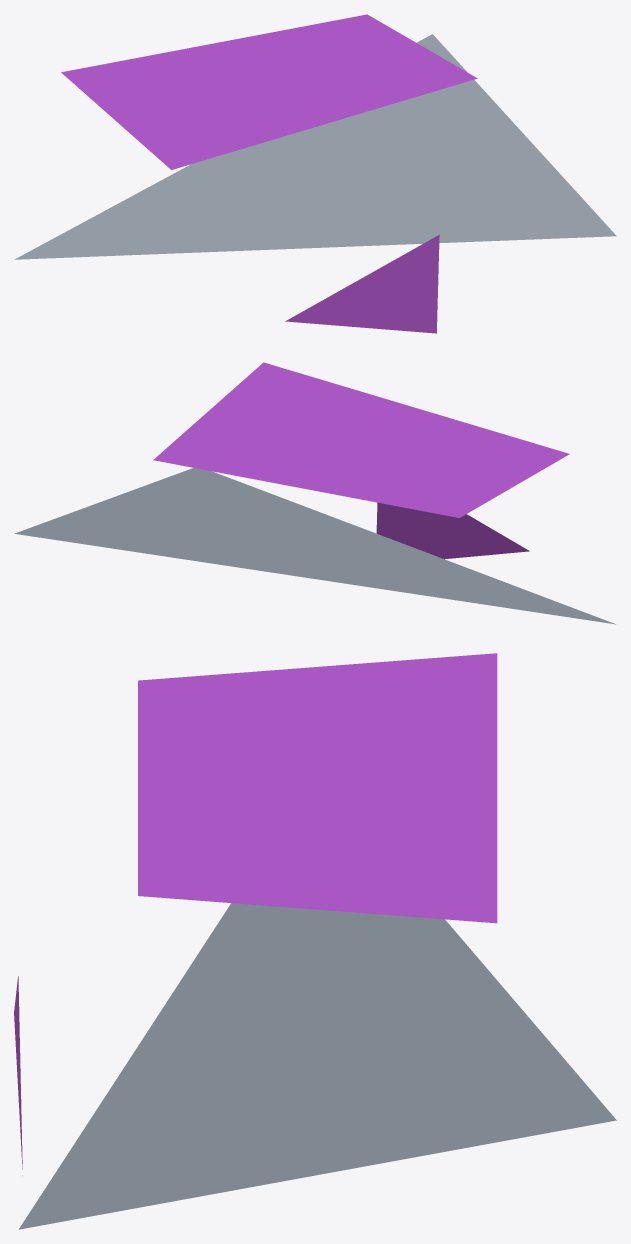
The model's file is CH_EraEngine_LOD2.glb.
3 views of the same model, one above another, from view 1: azimuth 30°, elevation 25°; view 2: azimuth 150°, elevation 25°; view 3: azimuth 270°, elevation 25° (orthographic). The views are drawn at different scales.
Visible parts, largest first — view 1: EntranceGate; view 2: EntranceGate; view 3: EntranceGate.
Boxes of the visible parts, <box> form: EntranceGate: <box>15,14,616,333</box>; EntranceGate: <box>14,362,615,624</box>; EntranceGate: <box>14,653,616,1229</box>.
Size of the model in its own units: 720 by 283 by 453.
